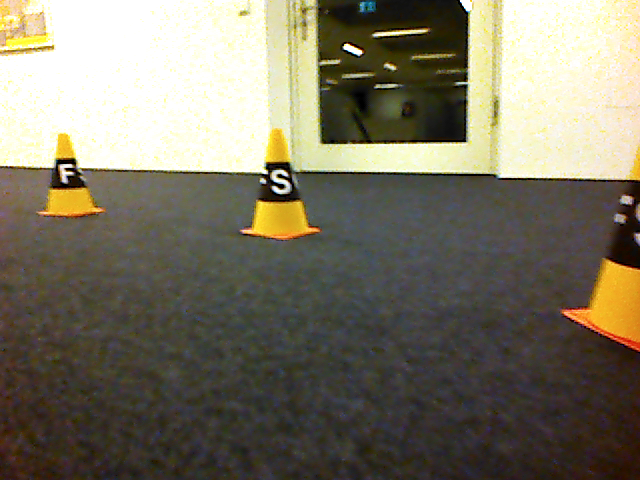yellowcone: (237, 126, 324, 242), (37, 133, 109, 219)
